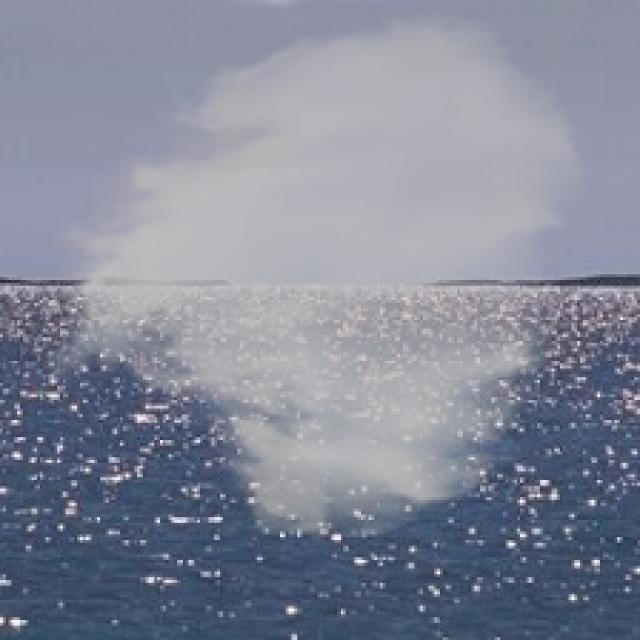Smoke: (40, 8, 589, 546)
